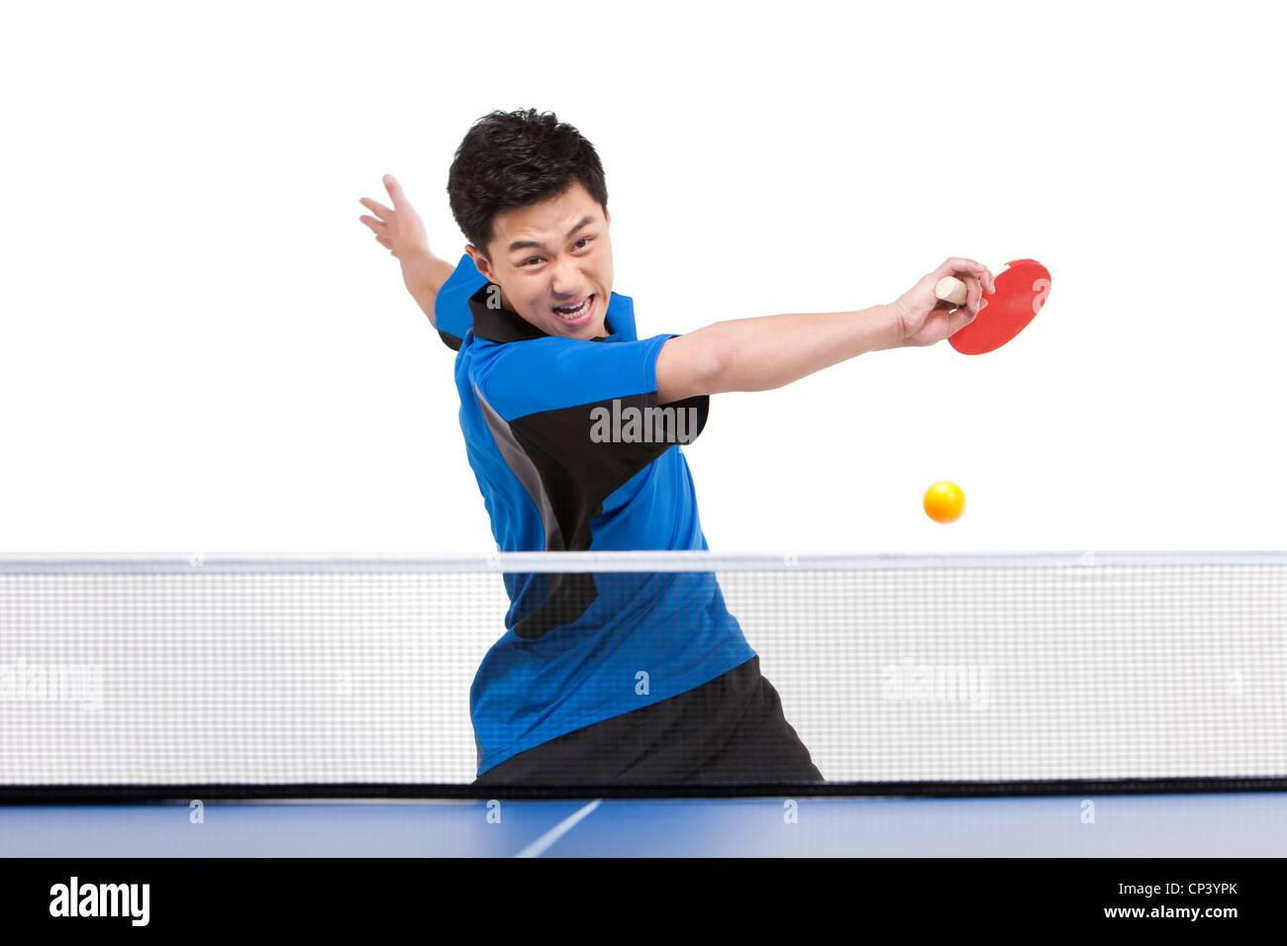ball_pingpong: (922, 481, 967, 527)
